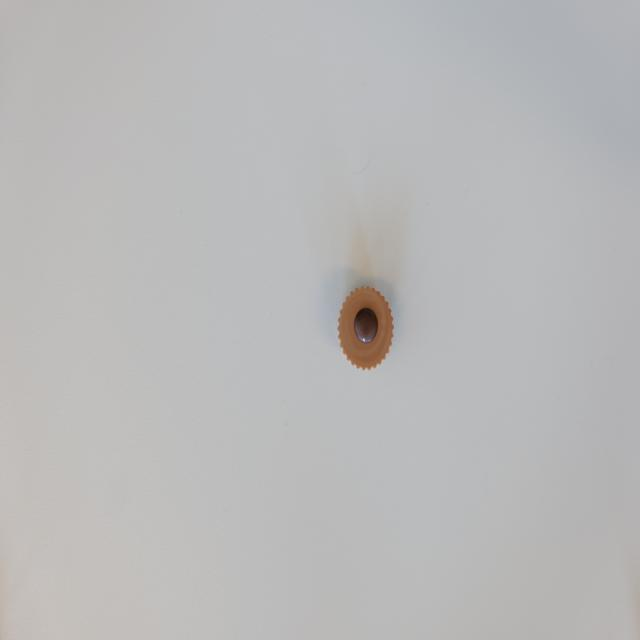Noblesse: (338, 285, 394, 370)
